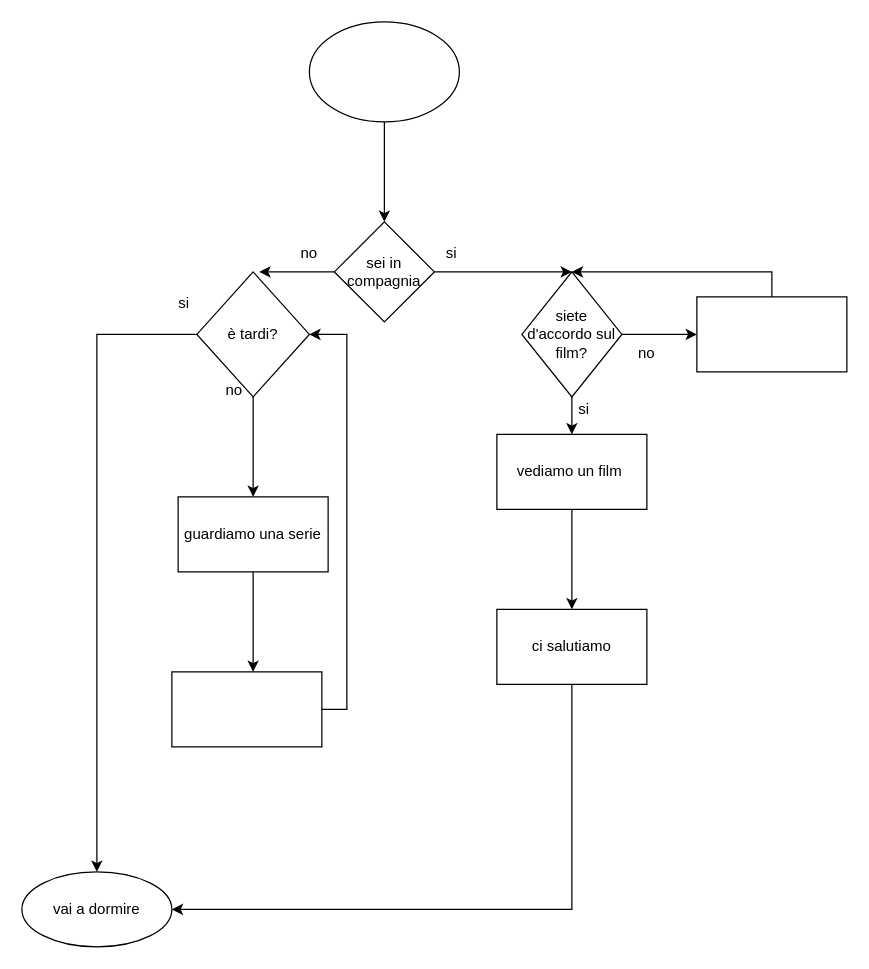
The diagram is 869 pixels wide and 969 high, and some of its shapes have lost their labels. The box of each missing label's shape, as (x1, y1, x2, y2) in pixels:
guardiamo un episodio: (171, 671, 322, 747)
scegliamo un genere: (696, 296, 847, 372)
vediamo un film su netflix: (308, 21, 459, 122)
